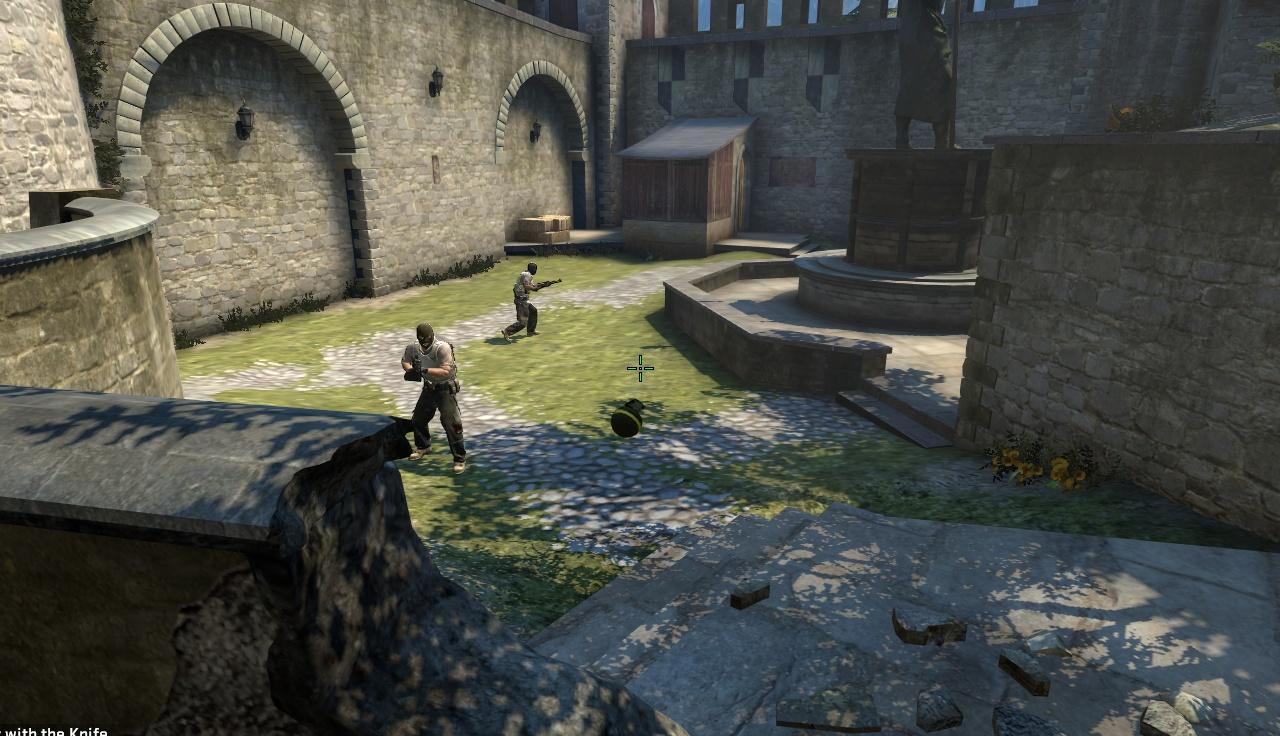tt: (405, 324, 465, 470), (511, 262, 540, 335)
tthead: (416, 323, 437, 350), (527, 262, 538, 276)
